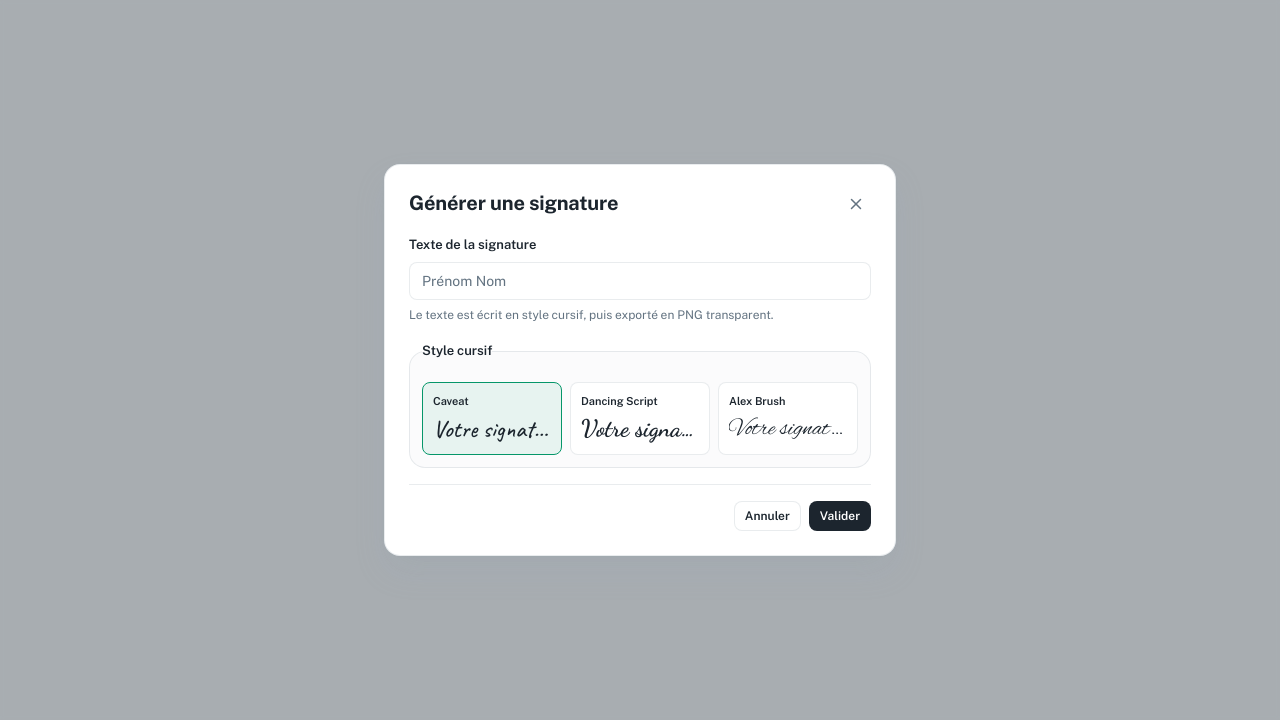
Test: SignatureFontGenerator › requires a text before exporting
Click the button "Valider" at (840, 516), box [809,501,871,531]
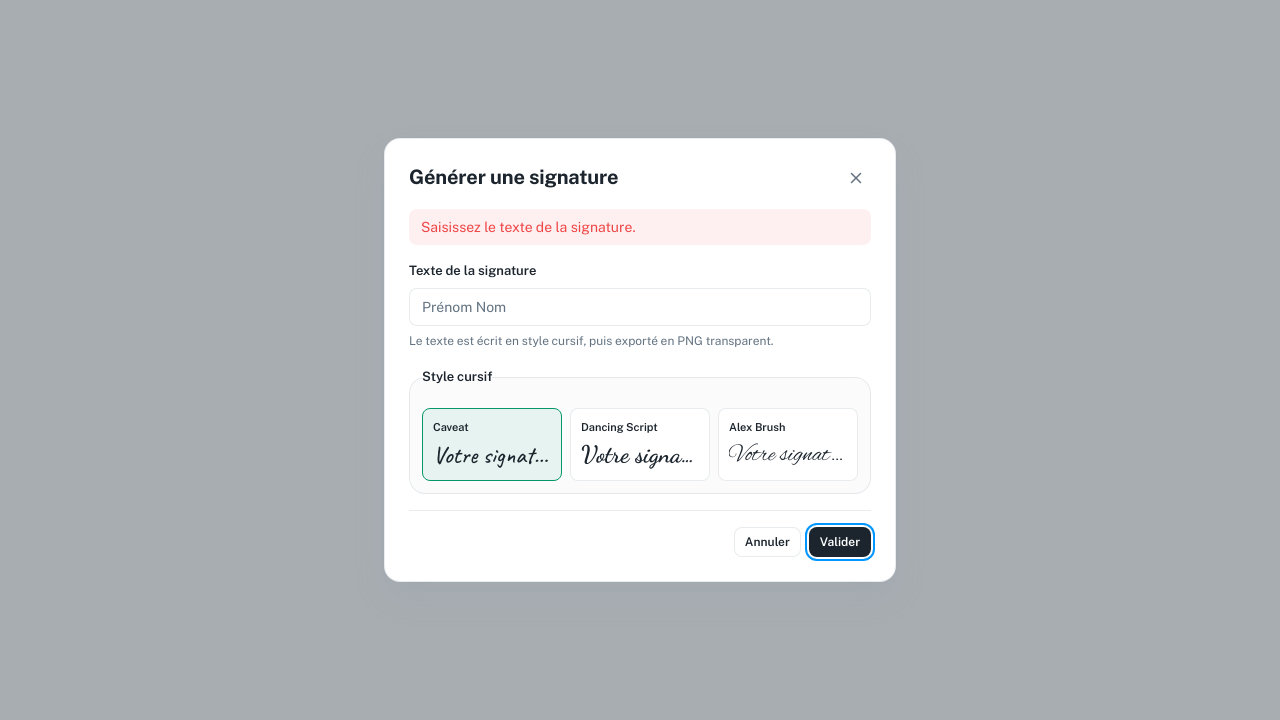
Result: the text "Saisissez le texte de la signature." is shown at [409,209,871,245]
